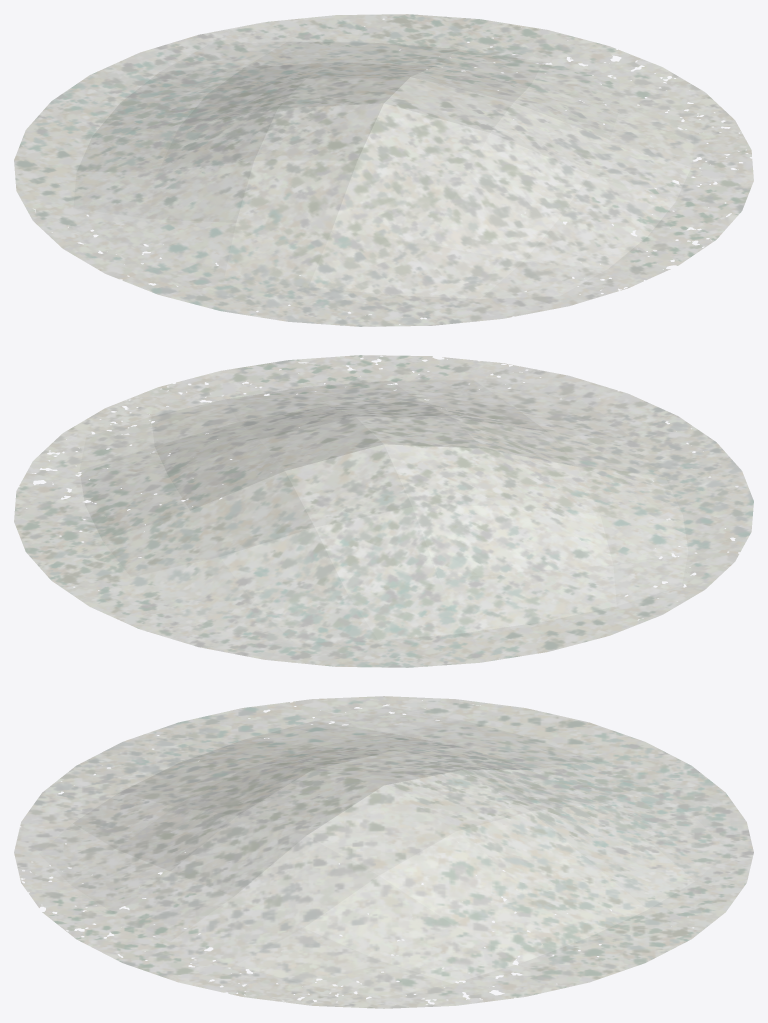
The model's file is powder Flower 1.fbx.
3 views of the same model, one above another, from view 1: azimuth 30°, elevation 25°; view 2: azimuth 150°, elevation 25°; view 3: azimuth 270°, elevation 25° (orthographic).
Parts seen in each view (by area): view 1: Circle.003; view 2: Circle.003; view 3: Circle.003.
Part boxes in pixels (x1,y1,x2,y2): Circle.003: (14, 14, 753, 326); Circle.003: (14, 355, 753, 667); Circle.003: (14, 696, 753, 1008).
Size of the model in its own units: 60.99 by 6.09 by 60.99.
